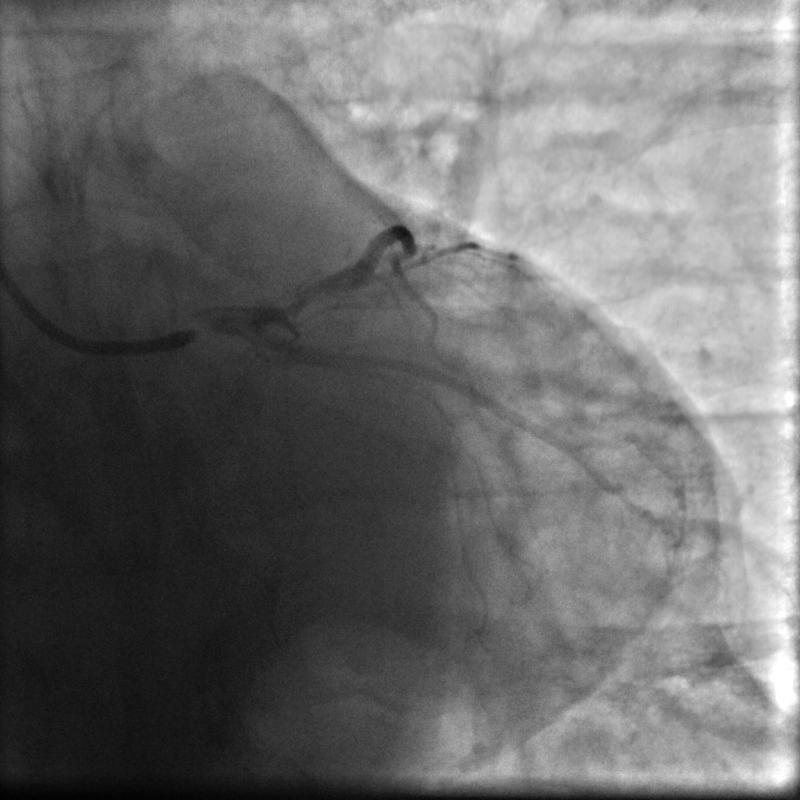Stenosis: (272, 282, 345, 316)
